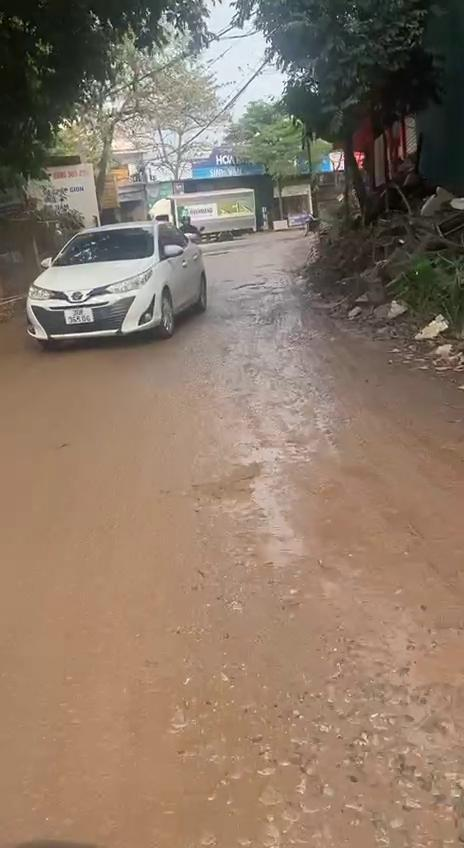pothole: (344, 612, 464, 847)
